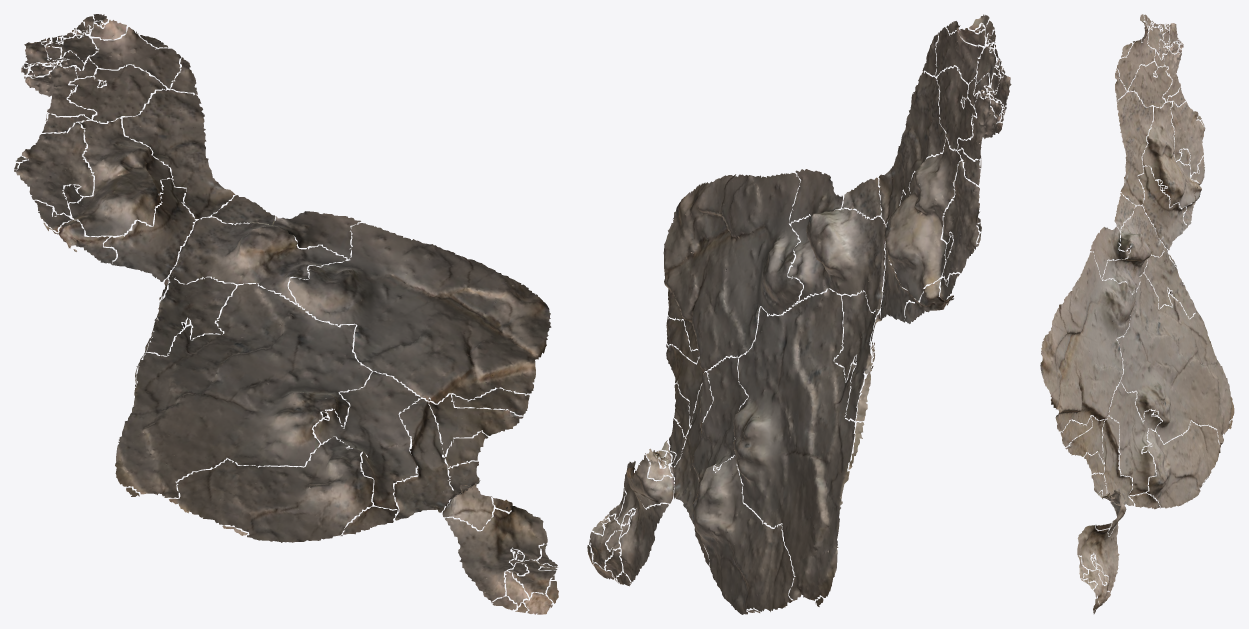
File: modelo5.glb
The picture shows the model from 3 angles, left to right: view 1: azimuth 30°, elevation 25°; view 2: azimuth 150°, elevation 25°; view 3: azimuth 270°, elevation 25°; orthographic projection. The views are drawn at different scales.
Visible parts, largest first — view 1: pvsj-585; view 2: pvsj-585; view 3: pvsj-585.
Part boxes in pixels (left/top/right/bottom): pvsj-585: left=14, top=14, right=558, bottom=614; pvsj-585: left=587, top=14, right=1011, bottom=614; pvsj-585: left=1040, top=14, right=1234, bottom=613.
Bounding box in the file's own units: 0.7347 × 0.9984 × 0.3797.
1 material, 1 textured.
